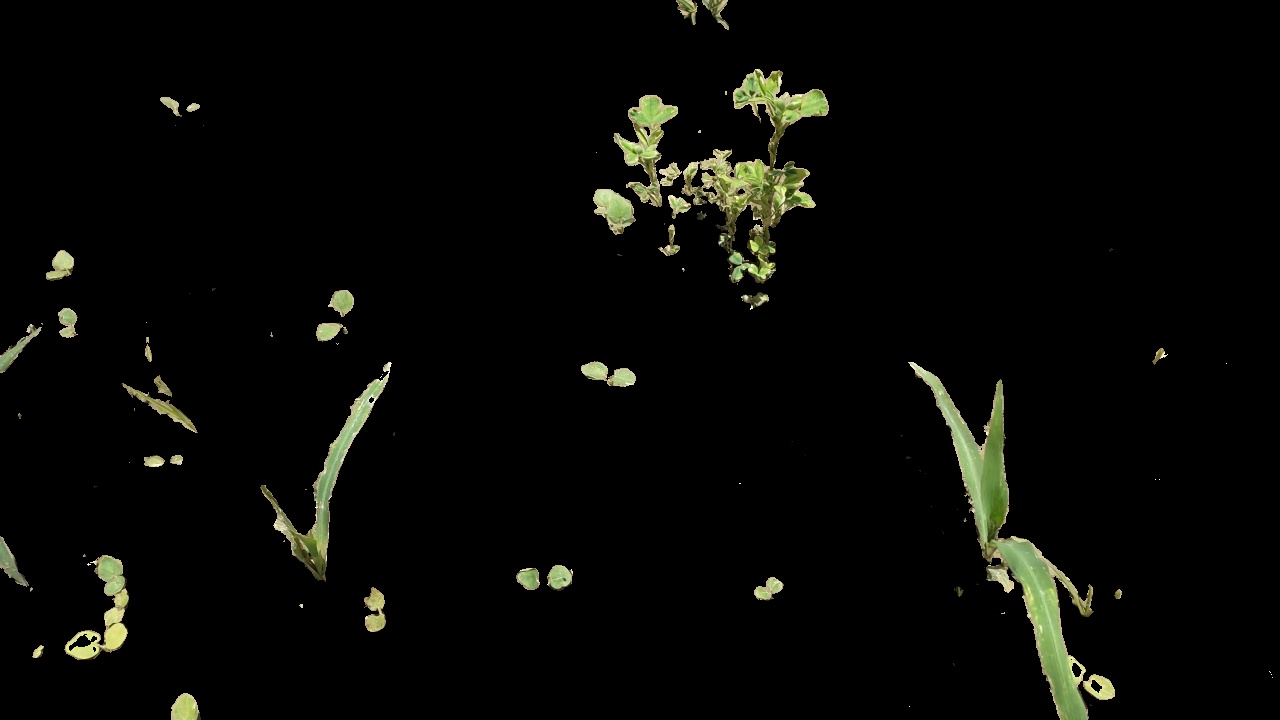crop: (910, 364, 1097, 622), (243, 369, 390, 581)
weed: (590, 62, 830, 312), (66, 547, 127, 661), (310, 289, 362, 345), (573, 355, 640, 394), (148, 90, 208, 122), (1078, 654, 1118, 698), (360, 584, 393, 635), (516, 563, 577, 588), (755, 568, 792, 607), (169, 694, 205, 720), (44, 250, 75, 280), (57, 305, 80, 340)
